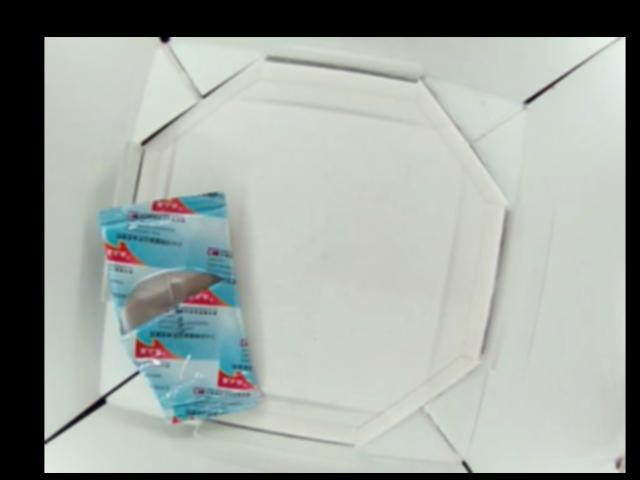Medicine: (98, 189, 261, 426)
